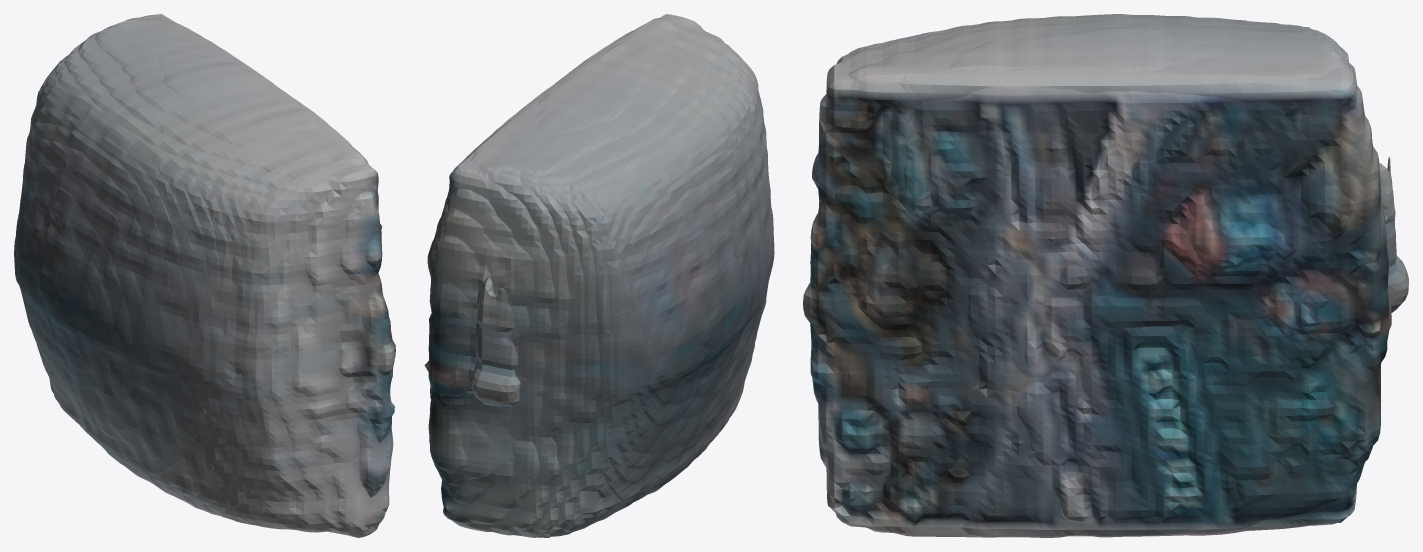
The model's file is leader-badger-engineer.glb.
3 renders of one model, left to right at view 1: azimuth 30°, elevation 25°; view 2: azimuth 150°, elevation 25°; view 3: azimuth 270°, elevation 25°, orthographic. The views are drawn at different scales.
Parts seen in each view (by area): view 1: world; view 2: world; view 3: world.
Part boxes in pixels (box(x1,y1,x2,y2)): world: box(14, 14, 395, 537); world: box(424, 14, 774, 537); world: box(803, 14, 1408, 537).
Size of the model in its own units: 0.5265 by 0.8731 by 1.03.
